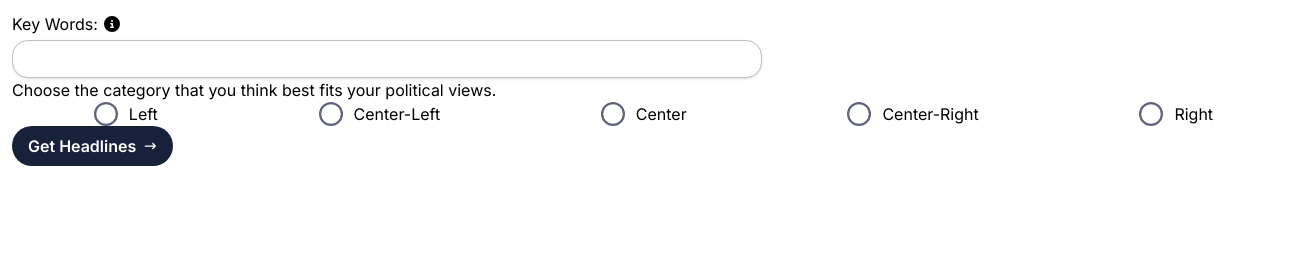
Test: displays error alert if slant has not been selected for my bubble search
The image size is (1292, 257).
Click the button "Get Headlines" at (92, 146), box [12,126,173,166]
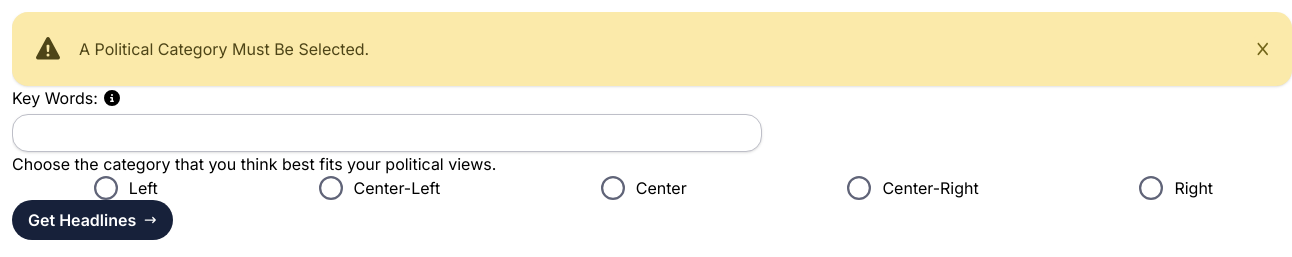
Result: the message "A Political Category Must Be Selected." is shown at [12,12,1291,86]
Result: the text "A Political Category Must Be Selected." is shown at [79,39,369,59]
